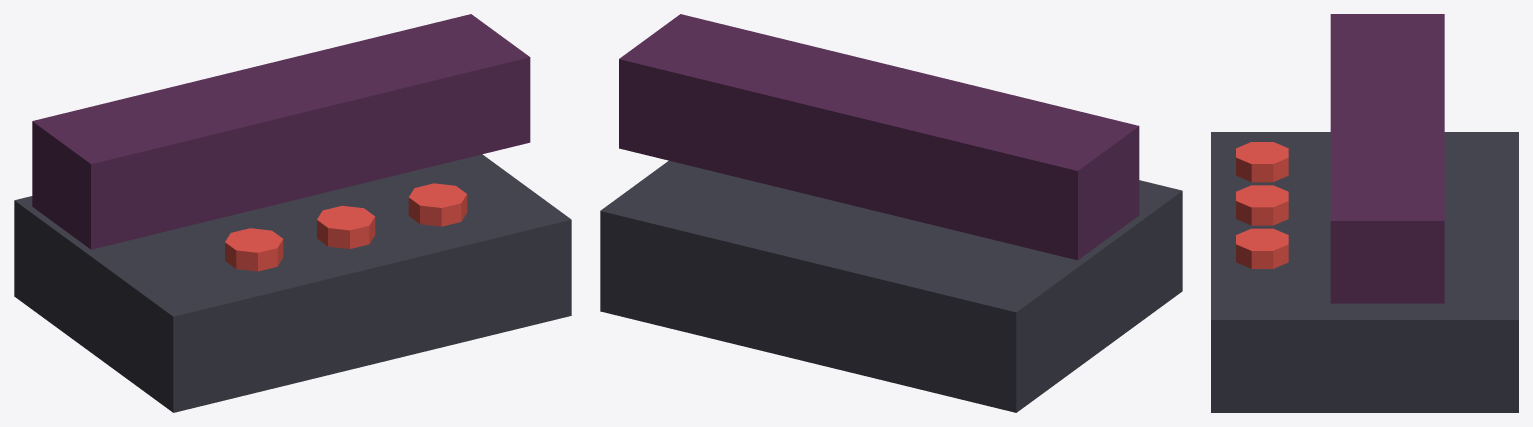
The model's file is office-phone.obj.
3 views of the same model, side by side, from view 1: azimuth 30°, elevation 25°; view 2: azimuth 150°, elevation 25°; view 3: azimuth 270°, elevation 25° (orthographic). The views are drawn at different scales.
Visible parts, largest first — view 1: phone-base, curvy-handset, dial-button-3, dial-button, dial-button-2; view 2: phone-base, curvy-handset; view 3: phone-base, curvy-handset, dial-button-2, dial-button-3, dial-button.
Boxes of the visible parts, bbox=[...] form: phone-base: bbox=[14, 154, 571, 412]; curvy-handset: bbox=[32, 14, 530, 249]; dial-button-3: bbox=[408, 183, 467, 226]; dial-button: bbox=[225, 228, 283, 271]; dial-button-2: bbox=[317, 205, 375, 248]; phone-base: bbox=[600, 160, 1182, 412]; curvy-handset: bbox=[619, 14, 1139, 260]; phone-base: bbox=[1211, 132, 1518, 412]; curvy-handset: bbox=[1330, 14, 1444, 303]; dial-button-2: bbox=[1236, 185, 1288, 225]; dial-button-3: bbox=[1236, 228, 1288, 268]; dial-button: bbox=[1236, 142, 1288, 182].
Size of the model in its own units: 0.86 by 0.39 by 0.54.
